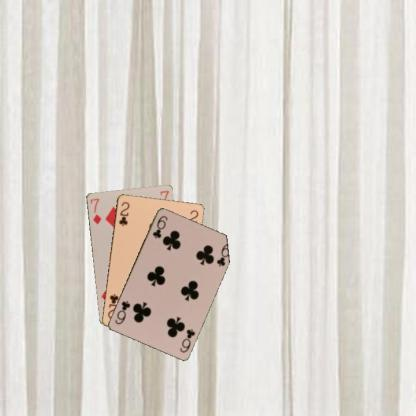2c: (116, 199, 131, 227)
6c: (150, 212, 169, 240), (178, 326, 196, 353)
7d: (88, 196, 102, 225)
